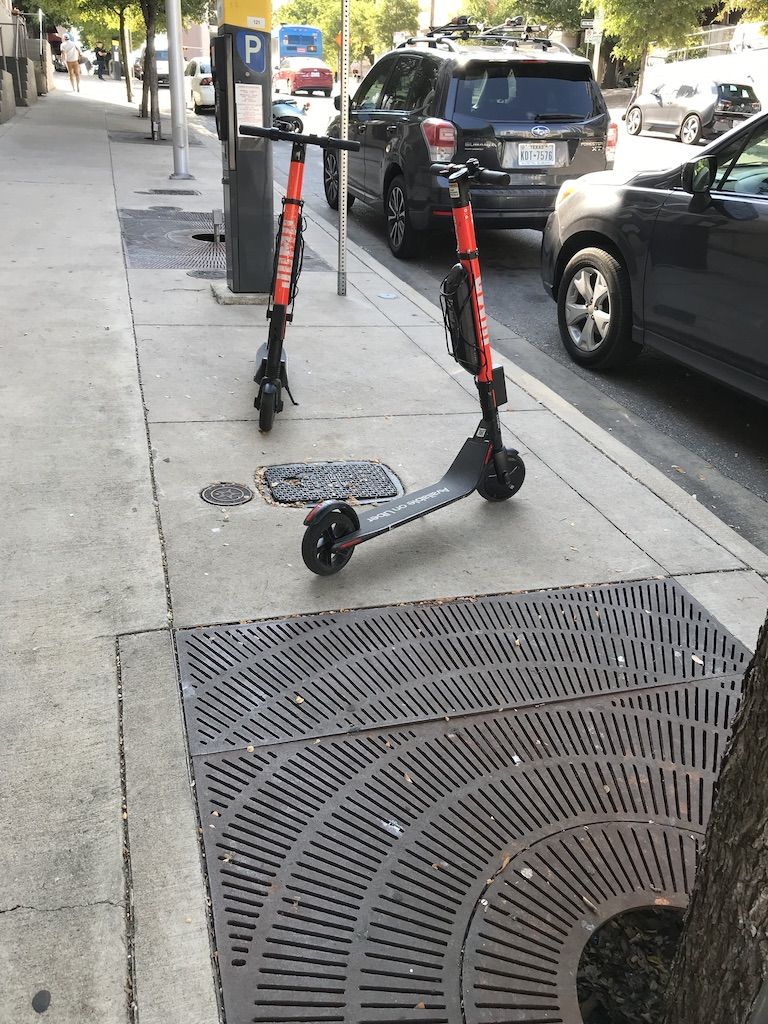scooter: (302, 160, 528, 576), (241, 124, 361, 432)
